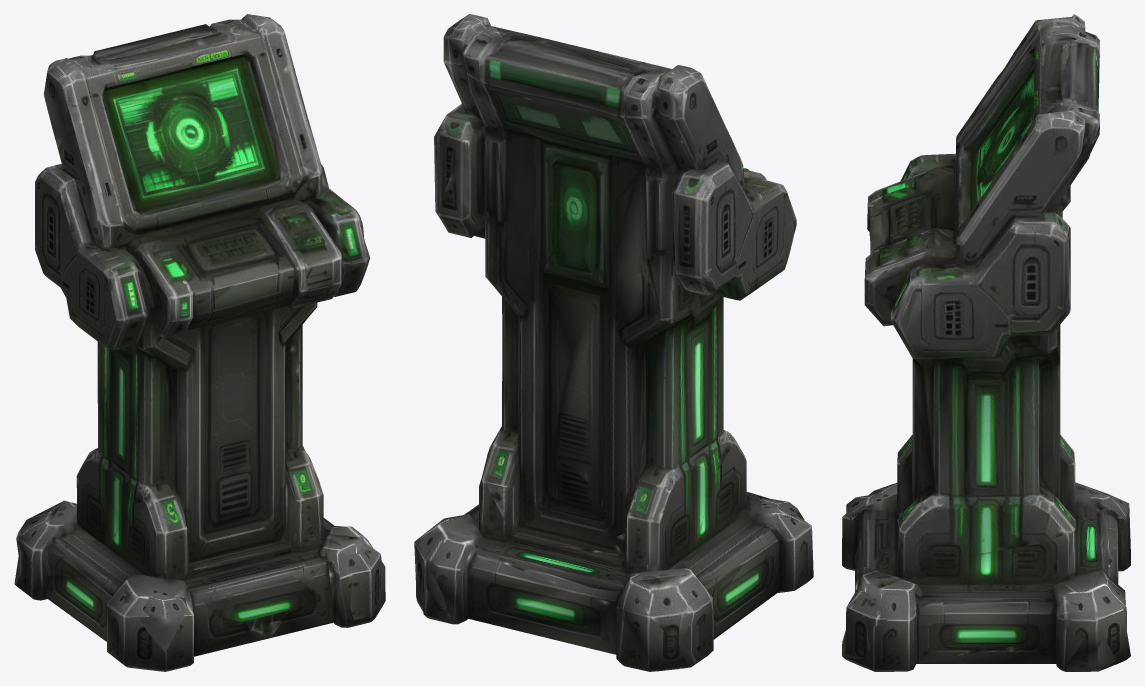
Rendered from halo-terminal.glb.
3 views of the same model, side by side, from view 1: azimuth 30°, elevation 25°; view 2: azimuth 150°, elevation 25°; view 3: azimuth 270°, elevation 25° (orthographic). The views are drawn at different scales.
Visible parts, largest first — view 1: material; view 2: material; view 3: material.
Boxes of the visible parts, x1,y1,x2,y2 form: material: (14, 14, 385, 671); material: (414, 14, 813, 671); material: (842, 14, 1130, 671).
Bounding box in the file's own units: 0.5261 × 1.02 × 0.4905.
Materials: 1 (1 with a texture image).
